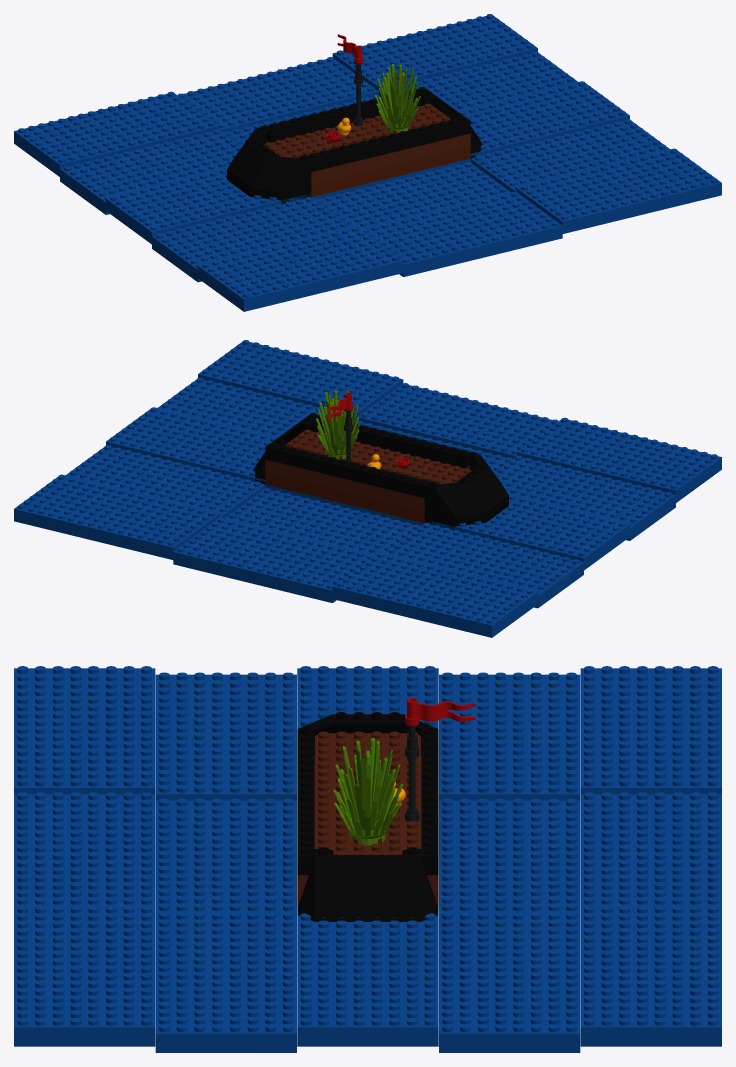
3 views of the same model, one above another, from view 1: azimuth 30°, elevation 25°; view 2: azimuth 150°, elevation 25°; view 3: azimuth 270°, elevation 25° (orthographic). The views are drawn at different scales.
Parts seen in each view (by area): view 1: Part.32, Part.31, Part.30, Part.27, Part.28, Part.29, Part.23, Part.21, Part.24, Part.25, Part.22, Part.19 (+10 smaller); view 2: Part.27, Part.29, Part.28, Part.32, Part.30, Part.31, Part.21, Part.23, Part.26, Part.25, Part.22, Part.20 (+10 smaller); view 3: Part.29, Part.31, Part.24, Part.26, Part.25, Part.27, Part.32, Part.23, Part.21, Part.28, Part.30, Part.19 (+9 smaller).
Boxes of the visible parts, x1=… form: Part.32: x1=198, y1=226, x2=403, y2=311; Part.31: x1=516, y1=148, x2=721, y2=233; Part.30: x1=361, y1=191, x2=562, y2=276; Part.27: x1=14, y1=91, x2=219, y2=176; Part.28: x1=177, y1=57, x2=378, y2=132; Part.29: x1=332, y1=14, x2=537, y2=91; Part.23: x1=152, y1=197, x2=351, y2=282; Part.21: x1=60, y1=129, x2=241, y2=214; Part.24: x1=470, y1=119, x2=670, y2=192; Part.25: x1=459, y1=81, x2=629, y2=158; Part.22: x1=106, y1=169, x2=310, y2=244; Part.19: x1=315, y1=162, x2=511, y2=229; Part.27: x1=332, y1=552, x2=537, y2=637; Part.29: x1=14, y1=474, x2=219, y2=559; Part.28: x1=173, y1=517, x2=374, y2=602; Part.32: x1=516, y1=417, x2=721, y2=502; Part.30: x1=357, y1=383, x2=558, y2=458; Part.31: x1=198, y1=340, x2=403, y2=417; Part.21: x1=384, y1=523, x2=583, y2=608; Part.23: x1=494, y1=455, x2=675, y2=540; Part.26: x1=65, y1=445, x2=265, y2=518; Part.25: x1=106, y1=407, x2=276, y2=484; Part.22: x1=425, y1=495, x2=629, y2=570; Part.20: x1=224, y1=488, x2=420, y2=555; Part.29: x1=580, y1=905, x2=721, y2=1046; Part.31: x1=14, y1=905, x2=155, y2=1046; Part.24: x1=155, y1=912, x2=296, y2=1052; Part.26: x1=439, y1=912, x2=580, y2=1052; Part.25: x1=297, y1=907, x2=438, y2=1046; Part.27: x1=580, y1=666, x2=721, y2=794; Part.32: x1=14, y1=666, x2=155, y2=794; Part.23: x1=155, y1=672, x2=296, y2=800; Part.21: x1=439, y1=672, x2=580, y2=800; Part.28: x1=580, y1=792, x2=721, y2=907; Part.30: x1=14, y1=792, x2=155, y2=907; Part.19: x1=155, y1=798, x2=296, y2=913.
Bounding box in the file's own units: 384 × 91.38 × 320.
